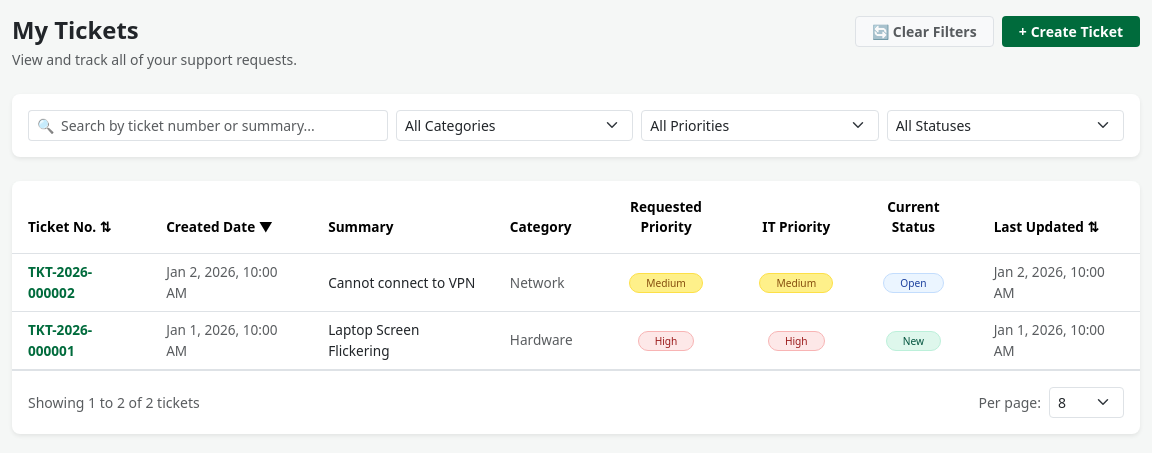
Test: TicketListPage (My Tickets) Component › sends the debounced search term to the backend and re-renders only matching tickets
Expected: the link "TKT-2026-000001" is shown, [28,320,92,360]
Expected: the link "TKT-2026-000002" is shown, [28,262,92,302]
Step 1. Type "VPN" into the field with placeholder "Search by ticket number or summary..." → x=224, y=125, box [61,110,388,141]
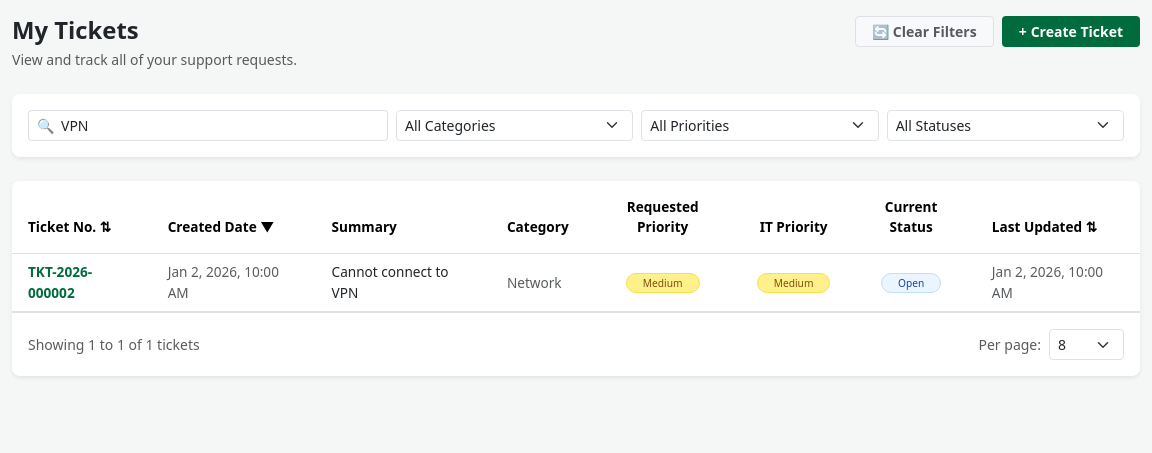
Expected: the link "TKT-2026-000002" is shown, [28,262,92,302]
Result: the link "TKT-2026-000001" is gone
